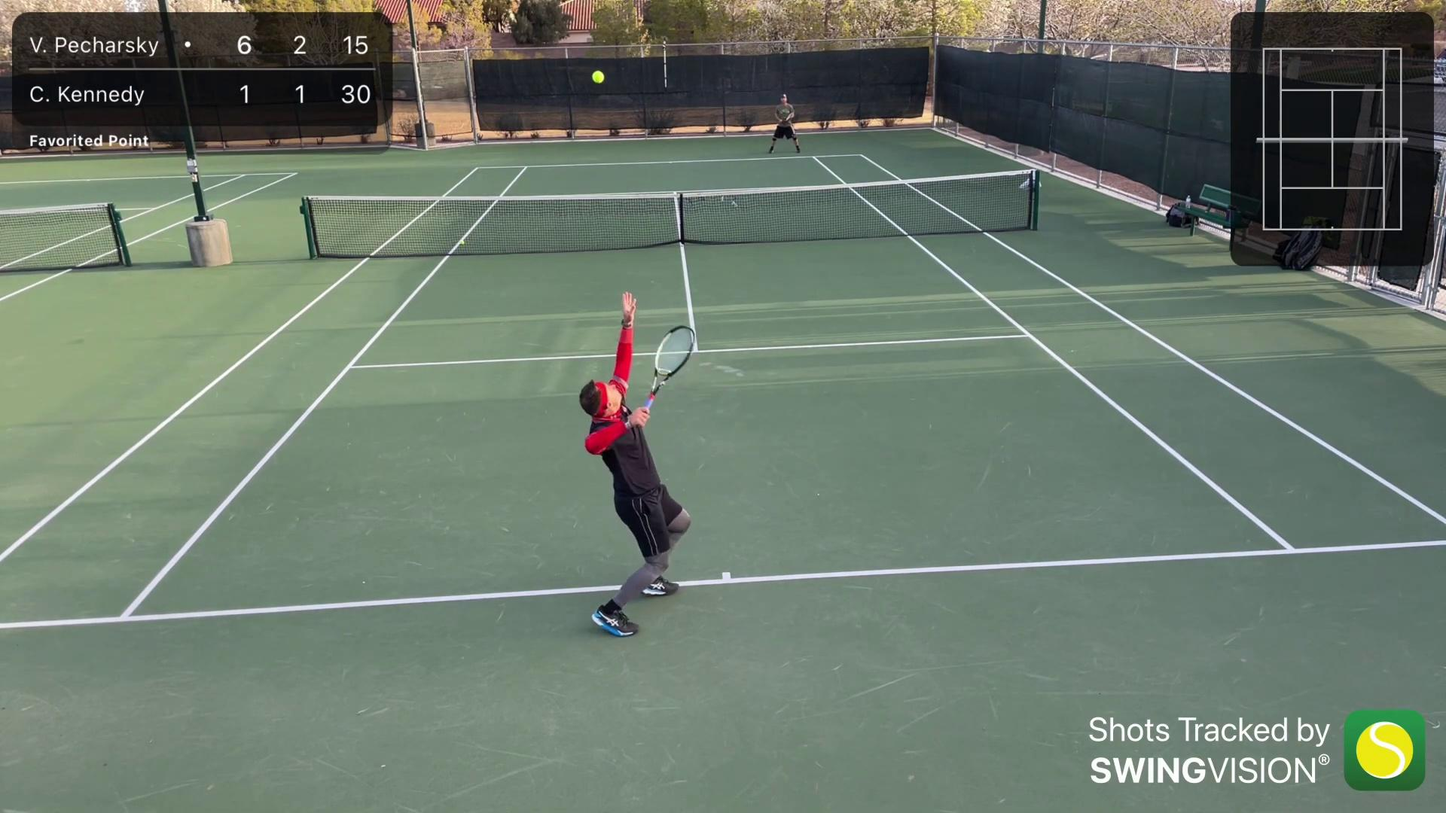ball: (589, 69, 606, 85)
